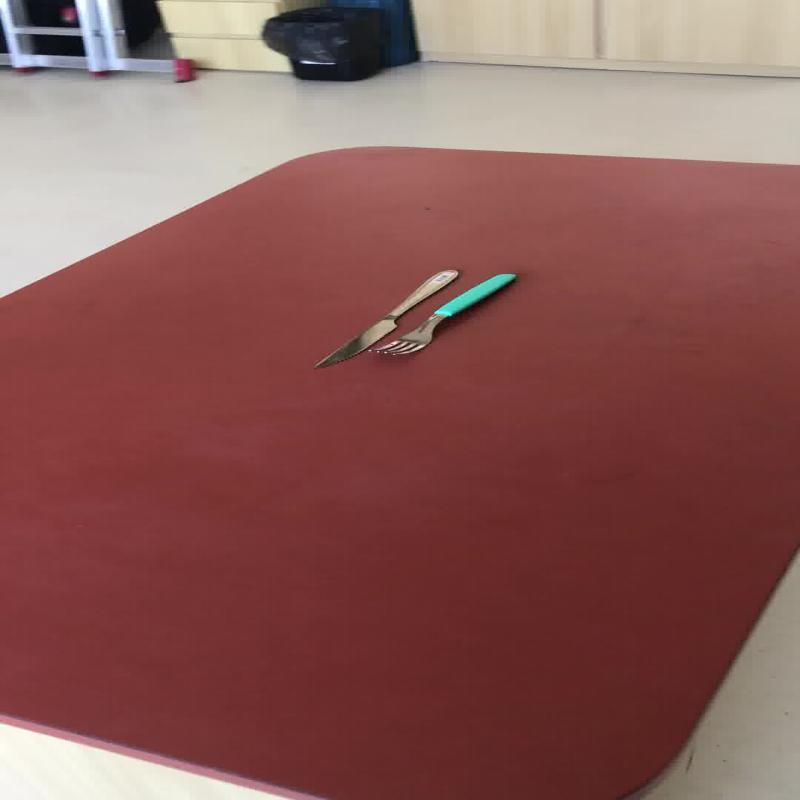fork: (368, 272, 516, 356)
knife: (310, 268, 458, 368)
